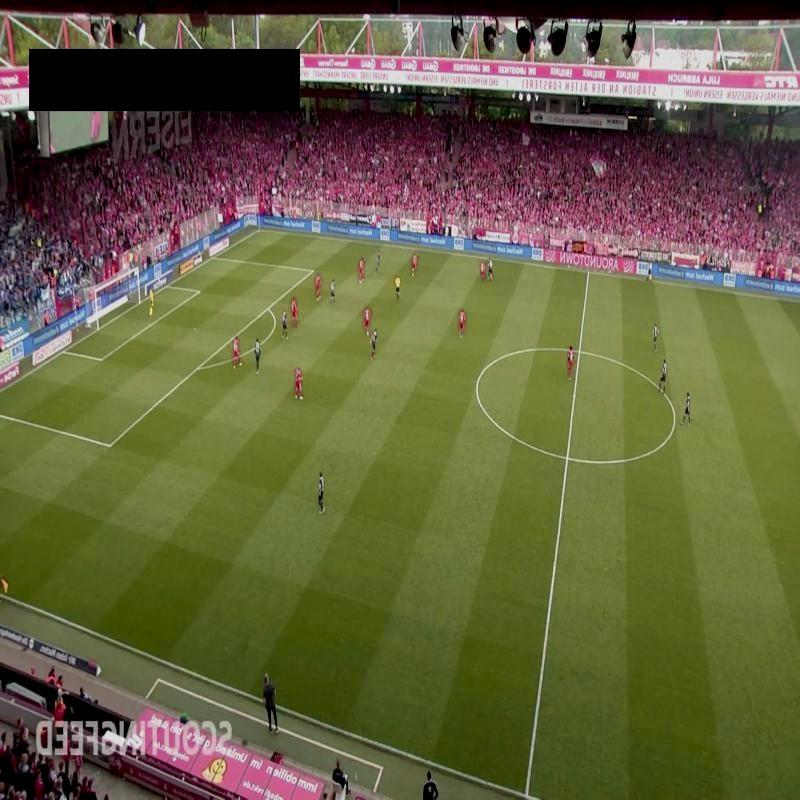1: (253, 224, 266, 238)
10: (261, 302, 275, 316)
11: (188, 358, 206, 380)
12: (103, 439, 118, 454)
13: (581, 267, 595, 281)
14: (574, 343, 589, 357)
15: (561, 450, 576, 464)
16: (516, 788, 537, 800)
2: (206, 251, 220, 264)
3: (161, 278, 175, 292)
4: (55, 345, 70, 359)
7: (192, 284, 206, 298)
8: (95, 354, 110, 368)
9: (306, 264, 320, 278)
c: (666, 413, 684, 426), (472, 376, 486, 390)
